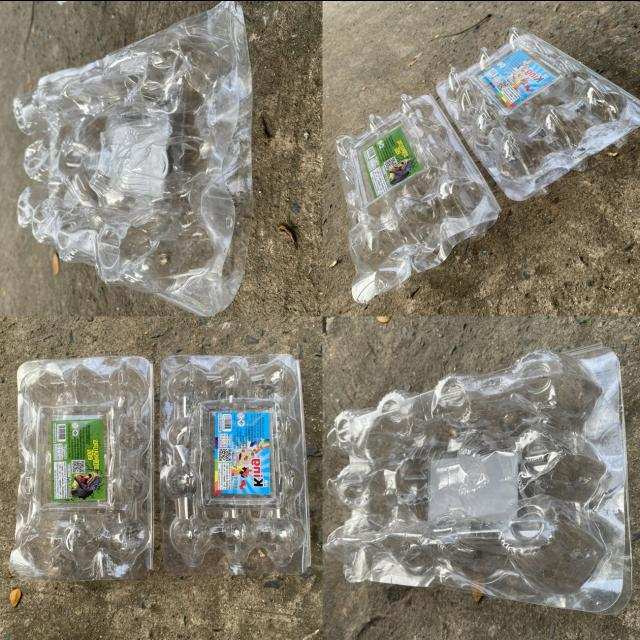plastik: (325, 343, 631, 613), (14, 0, 253, 314), (437, 27, 640, 200), (337, 93, 500, 301), (160, 352, 310, 574), (9, 355, 153, 580)
